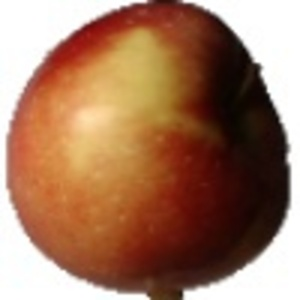maçã braeburn: (5, 2, 293, 293)
